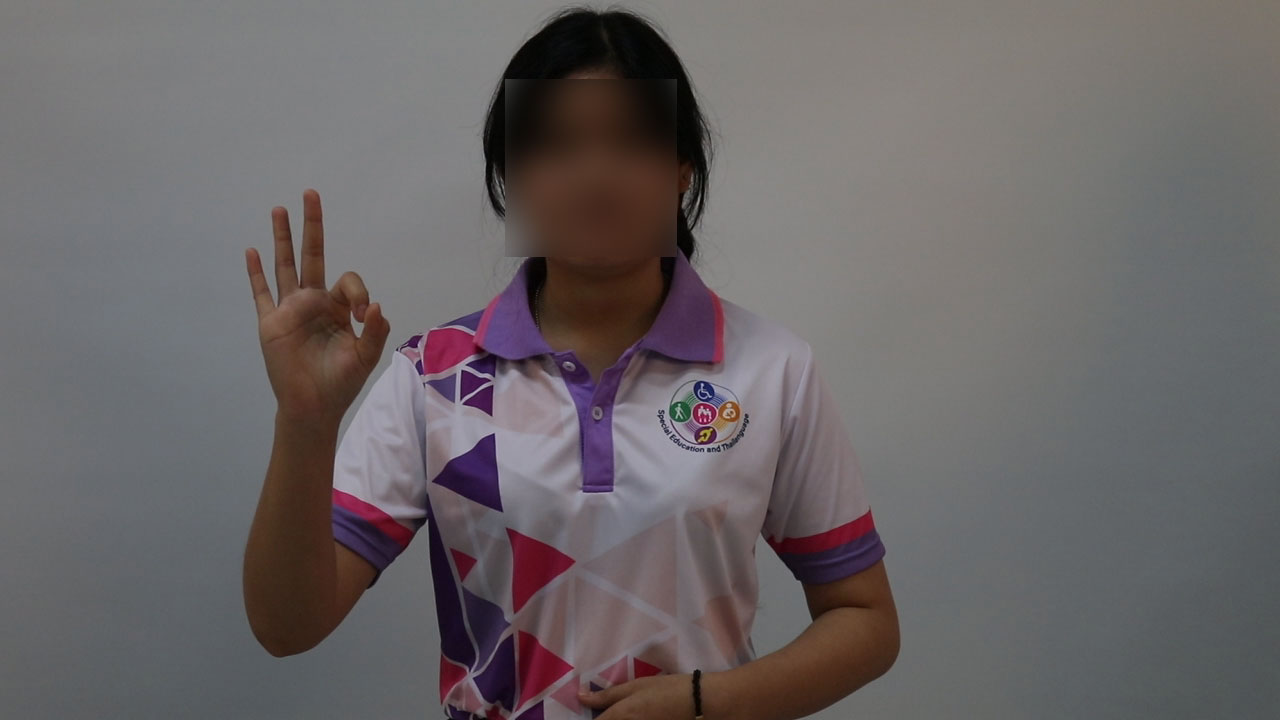for: (239, 172, 400, 431)
